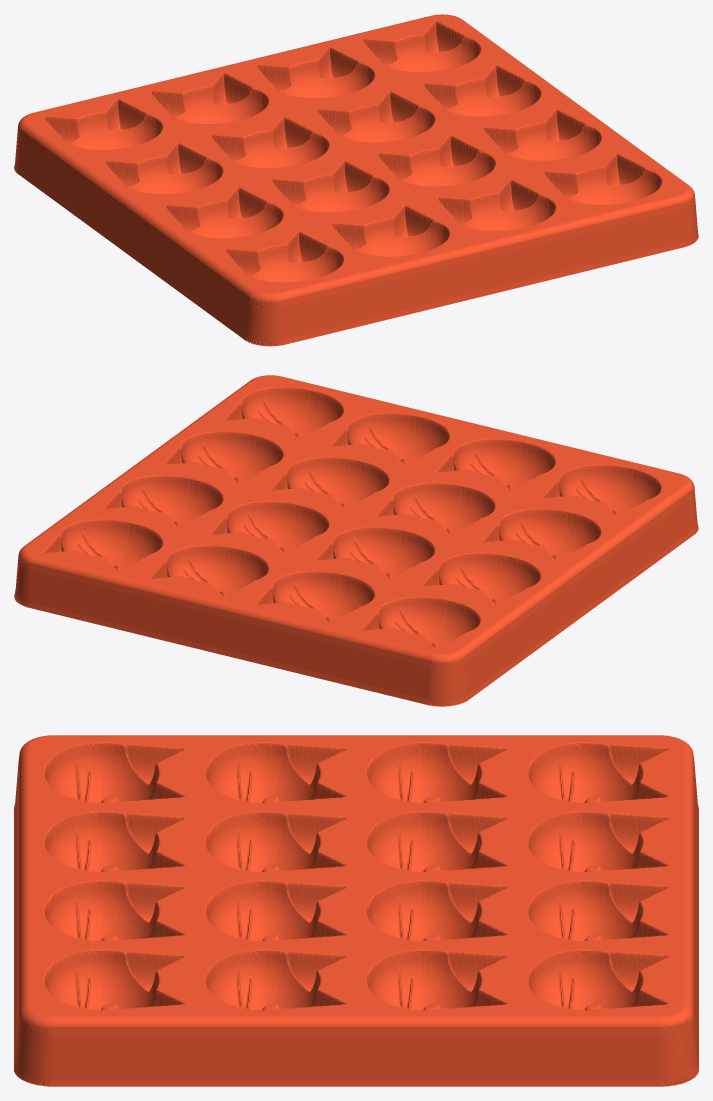
The model's file is mold.glb.
3 views of the same model, one above another, from view 1: azimuth 30°, elevation 25°; view 2: azimuth 150°, elevation 25°; view 3: azimuth 270°, elevation 25° (orthographic). The views are drawn at different scales.
Parts seen in each view (by area): view 1: geometry_0; view 2: geometry_0; view 3: geometry_0.
Part boxes in pixels (left/top/right/bottom): geometry_0: left=14, top=14, right=698, bottom=346; geometry_0: left=14, top=375, right=698, bottom=706; geometry_0: left=14, top=735, right=698, bottom=1086.
Size of the model in its own units: 0.1569 by 0.0159 by 0.1548.
